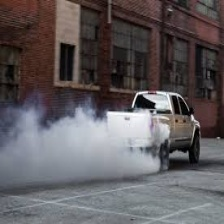smoke: (4, 125, 157, 185)
